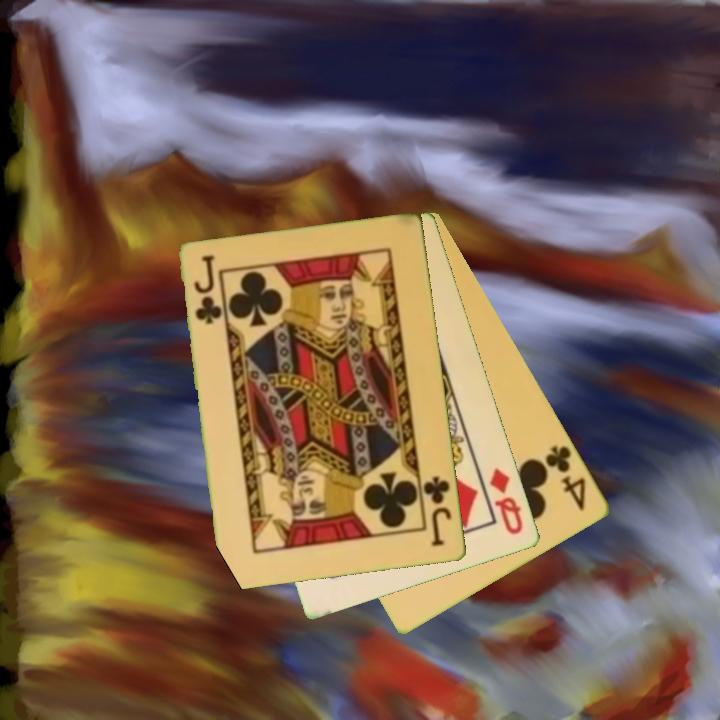4c: (542, 442, 590, 514)
Jc: (420, 473, 455, 550), (191, 251, 224, 328)
Qd: (486, 464, 526, 538)
